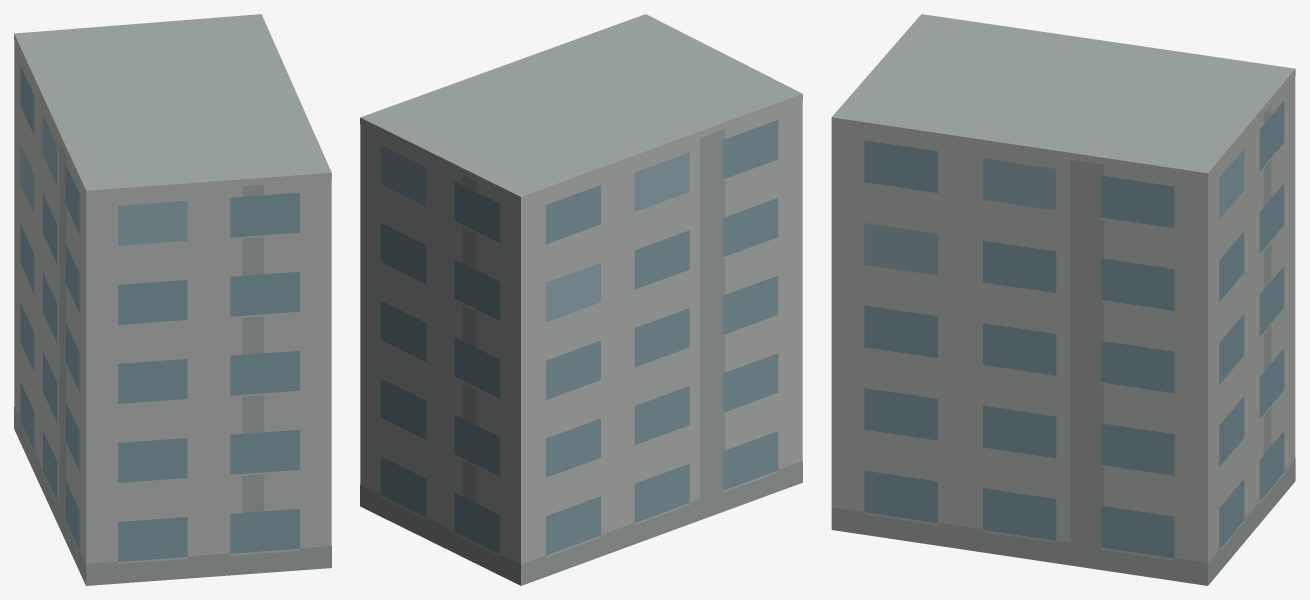
Rendered from survey-upis-32890943.glb.
3 views of the same model, side by side, from view 1: azimuth 30°, elevation 25°; view 2: azimuth 150°, elevation 25°; view 3: azimuth 270°, elevation 25° (orthographic). The views are drawn at different scales.
Parts seen in each view (by area): view 1: survey-upis-32890943.tmp; view 2: survey-upis-32890943.tmp; view 3: survey-upis-32890943.tmp.
Part boxes in pixels (bbox=[...]): survey-upis-32890943.tmp: bbox=[14, 14, 331, 585]; survey-upis-32890943.tmp: bbox=[360, 14, 802, 585]; survey-upis-32890943.tmp: bbox=[831, 14, 1295, 585].
Bounding box in the file's own units: 11.89 × 14.35 × 14.63.
